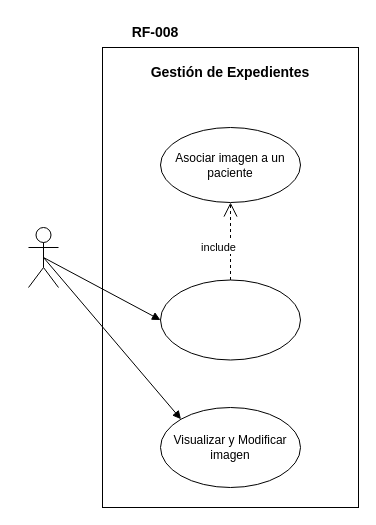
Image size: 376x525. Some labels were removed from this diagram. The centre of each missing label's shape, as x and y in pixels:
"Cargar imagen de prueba psicologica" goes at [230,319].
"Terapeuta" goes at [43,257].
